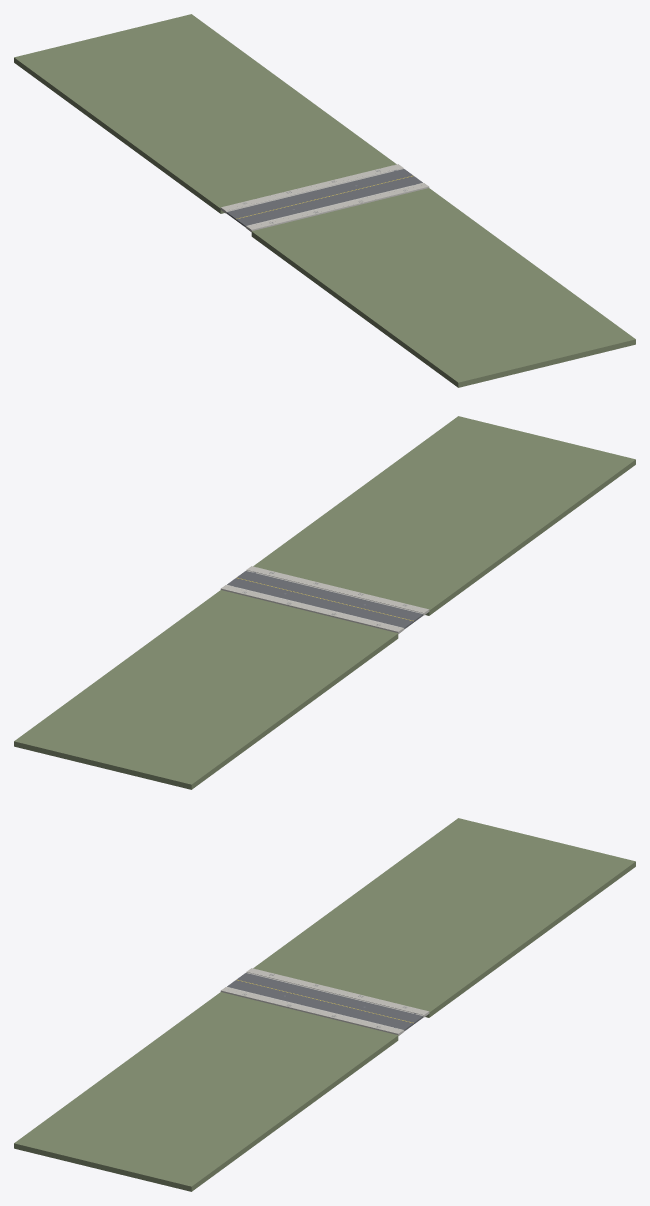
Rendered from hill_block.glb.
3 renders of one model, top to bottom at view 1: azimuth 30°, elevation 25°; view 2: azimuth 150°, elevation 25°; view 3: azimuth 330°, elevation 25°, orthographic.
Parts seen in each view (by area): view 1: Yards, Road, Sidewalk; view 2: Yards, Road, Sidewalk; view 3: Yards, Road, Sidewalk.
Boxes of the visible parts, x1,y1,x2,y2 form: Yards: (14, 14, 635, 387); Road: (226, 169, 422, 227); Sidewalk: (221, 164, 428, 229); Yards: (14, 416, 635, 789); Road: (227, 571, 423, 629); Sidewalk: (221, 566, 428, 631); Yards: (14, 818, 635, 1191); Road: (227, 973, 423, 1031); Sidewalk: (221, 968, 428, 1033).
Bounding box in the file's own units: 60 × 2.16 × 260.
